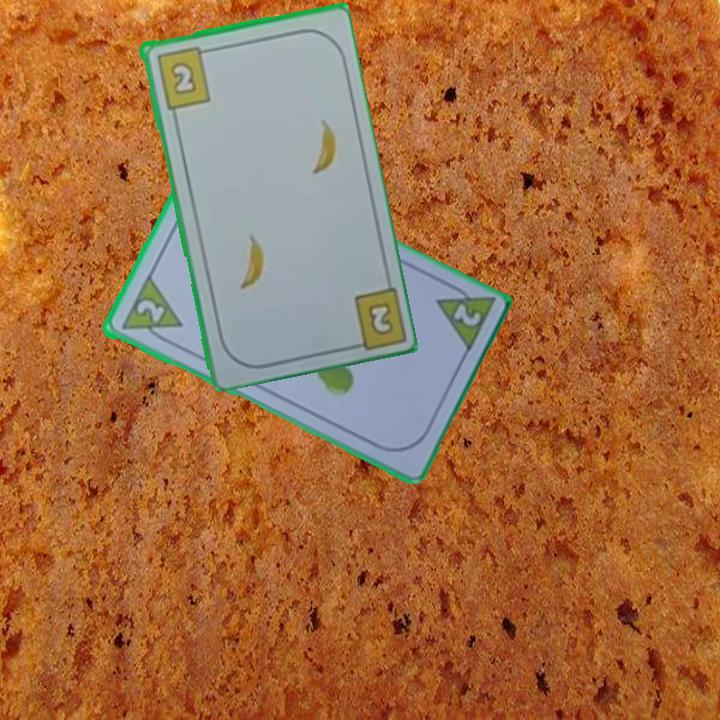2b: (342, 281, 406, 353), (152, 43, 213, 112)
2p: (448, 300, 484, 330), (132, 296, 167, 326)
